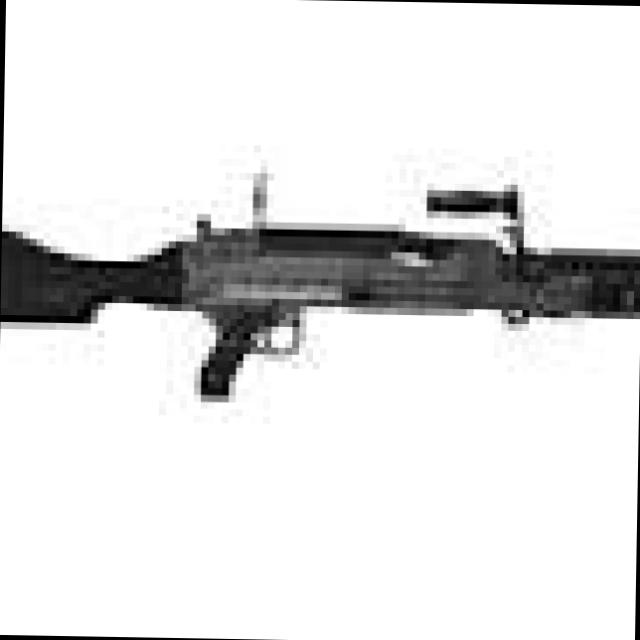Gun: (0, 113, 640, 444)
